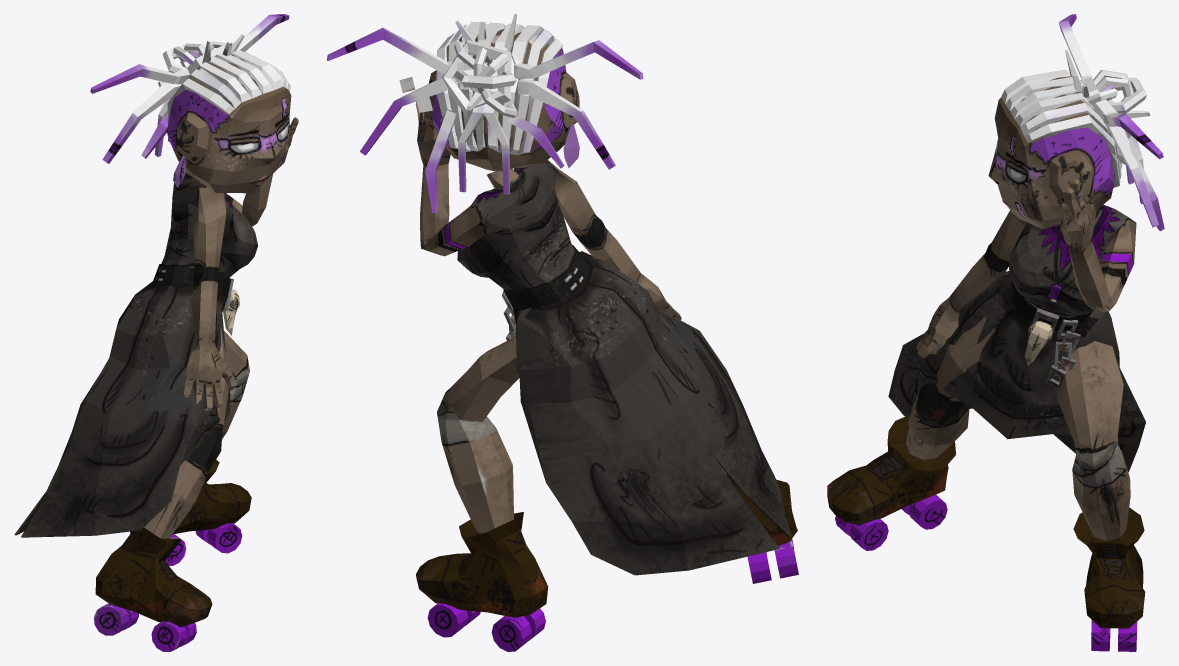
File: bruja_000006.obj
3 views of the same model, side by side, from view 1: azimuth 30°, elevation 25°; view 2: azimuth 150°, elevation 25°; view 3: azimuth 270°, elevation 25° (orthographic). The views are drawn at different scales.
Parts seen in each view (by area): view 1: Bruja_Plane.001; view 2: Bruja_Plane.001; view 3: Bruja_Plane.001.
Part boxes in pixels (left/top/right/bottom): Bruja_Plane.001: left=14, top=14, right=298, bottom=651; Bruja_Plane.001: left=327, top=14, right=798, bottom=651; Bruja_Plane.001: left=827, top=14, right=1164, bottom=651.
Size of the model in its own units: 10.22 by 15.33 by 8.04.
